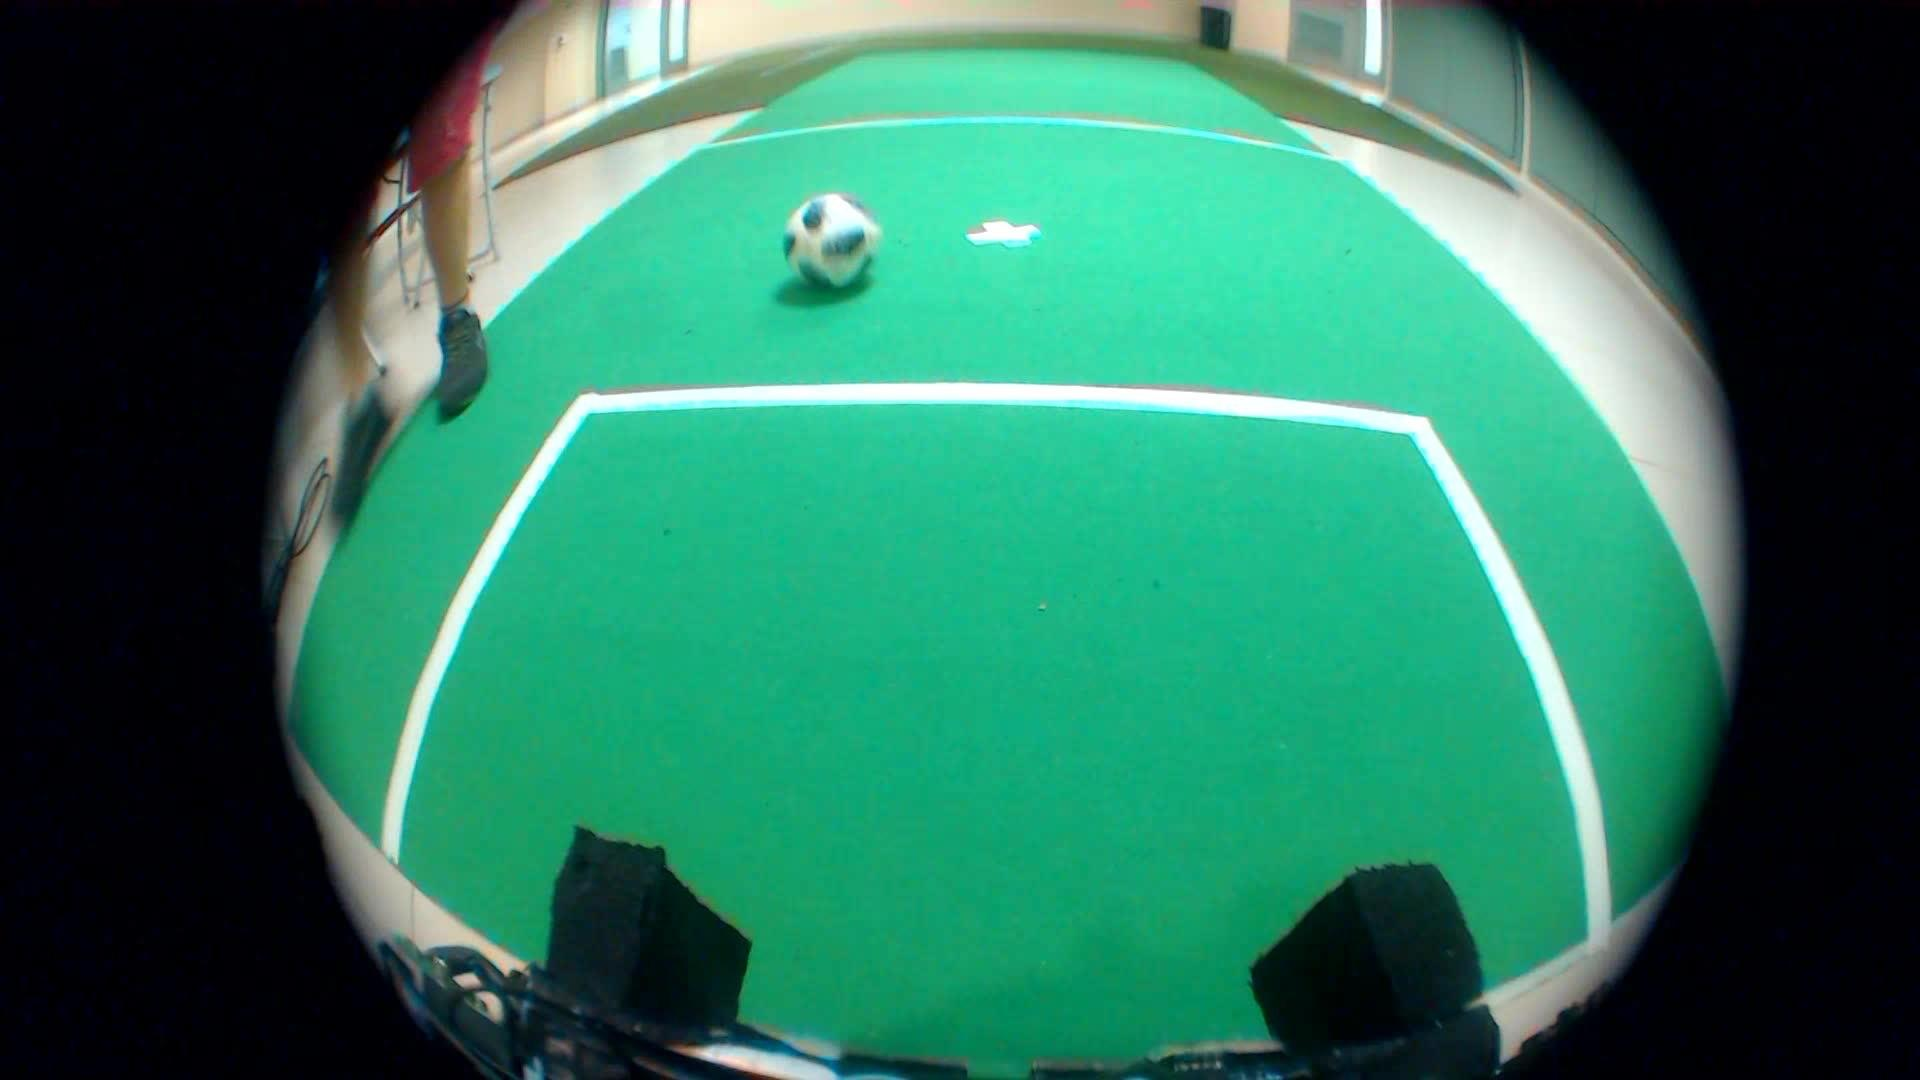ball: (762, 171, 894, 307)
